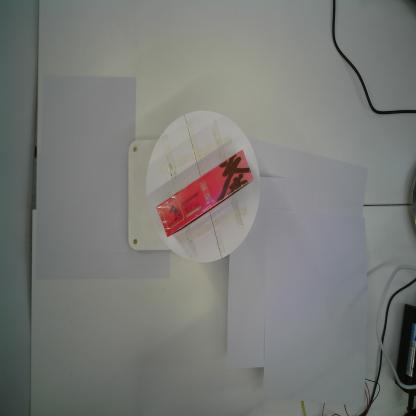Instant Drink: (157, 149, 253, 239)
